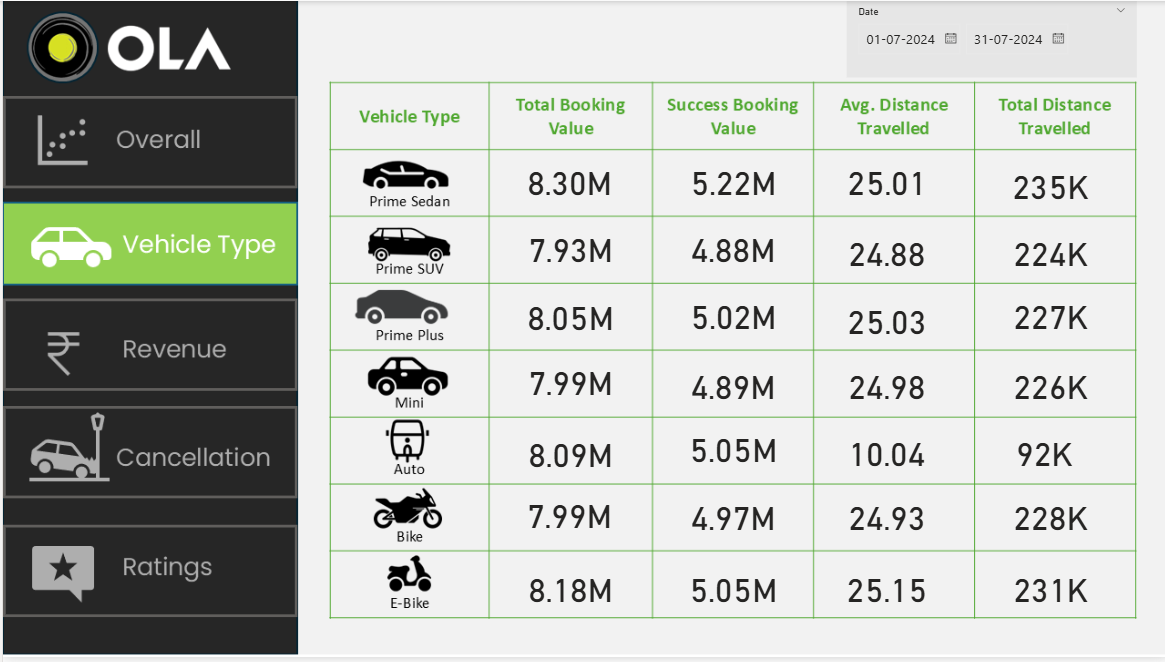

Layout of this report page (visuals, bound fields, positions):
{"tool":"powerbi","page":{"name":"Vehicle Type","canvas":[1280,720],"ordinal":1},"visuals":[{"type":"actionButton","box":[0,326.9,323.3,101.3],"z":0},{"type":"actionButton","box":[0,445.2,323.3,101.3],"z":1000},{"type":"actionButton","box":[0,575.5,323.3,101.3],"z":2000},{"type":"actionButton","box":[0,103.8,323.3,101.3],"z":3000},{"type":"card","fields":{"Values":["Sum(Bookings_Cleaned.Booking_Value)"]},"box":[537.9,164.7,168.8,64.5],"z":4000},{"type":"card","fields":{"Values":["Sum(Bookings_Cleaned.Booking_Value)"]},"box":[544.1,238.4,157.1,64.5],"z":5000},{"type":"card","fields":{"Values":["Sum(Bookings_Cleaned.Booking_Value)"]},"box":[544.1,312.7,157.1,64.5],"z":6000},{"type":"card","fields":{"Values":["Sum(Bookings_Cleaned.Booking_Value)"]},"box":[544.1,388.4,157.1,56.1],"z":7000},{"type":"card","fields":{"Values":["Sum(Bookings_Cleaned.Booking_Value)"]},"box":[544.1,464.2,157.1,64.5],"z":8000},{"type":"card","fields":{"Values":["Sum(Bookings_Cleaned.Booking_Value)"]},"box":[538.5,528.7,168.3,68.7],"z":9000},{"type":"card","fields":{"Values":["Sum(Bookings_Cleaned.Booking_Value)"]},"box":[544.1,611.4,157.1,64.5],"z":10000},{"type":"card","fields":{"Values":["Sum(Bookings_Cleaned.Booking_Value)"]},"box":[718,164.1,168.3,64.5],"z":11000},{"type":"card","fields":{"Values":["Sum(Bookings_Cleaned.Booking_Value)"]},"box":[718,532.9,168.3,64.5],"z":12000},{"type":"card","fields":{"Values":["Sum(Bookings_Cleaned.Booking_Value)"]},"box":[718,611.4,168.3,64.5],"z":13000},{"type":"card","fields":{"Values":["Sum(Bookings_Cleaned.Booking_Value)"]},"box":[718,238.4,168.3,64.5],"z":14000},{"type":"card","fields":{"Values":["Sum(Bookings_Cleaned.Booking_Value)"]},"box":[718,307.1,168.3,74.3],"z":15000},{"type":"card","fields":{"Values":["Sum(Bookings_Cleaned.Booking_Value)"]},"box":[718,388.4,168.3,64.5],"z":16000},{"type":"card","fields":{"Values":["Sum(Bookings_Cleaned.Booking_Value)"]},"box":[718,452.9,168.3,75.7],"z":17000},{"type":"card","fields":{"Values":["Avg(Bookings_Cleaned.Ride_Distance)"]},"box":[886.2,164.1,168.3,64.5],"z":18000},{"type":"card","fields":{"Values":["Avg(Bookings_Cleaned.Ride_Distance)"]},"box":[886.2,242.6,168.3,64.5],"z":19000},{"type":"card","fields":{"Values":["Avg(Bookings_Cleaned.Ride_Distance)"]},"box":[886.2,312.7,168.3,74.3],"z":20000},{"type":"card","fields":{"Values":["Avg(Bookings_Cleaned.Ride_Distance)"]},"box":[886.2,388.4,168.3,64.5],"z":21000},{"type":"card","fields":{"Values":["Avg(Bookings_Cleaned.Ride_Distance)"]},"box":[886.2,457.1,168.3,75.7],"z":22000},{"type":"card","fields":{"Values":["Avg(Bookings_Cleaned.Ride_Distance)"]},"box":[886.2,532.9,168.3,64.5],"z":23000},{"type":"card","fields":{"Values":["Avg(Bookings_Cleaned.Ride_Distance)"]},"box":[886.2,611.4,168.3,64.5],"z":24000},{"type":"card","fields":{"Values":["Sum(Bookings_Cleaned.Ride_Distance)"]},"box":[1065.7,164.1,168.3,72.9],"z":25000},{"type":"card","fields":{"Values":["Sum(Bookings_Cleaned.Ride_Distance)"]},"box":[1065.7,242.6,168.3,64.5],"z":26000},{"type":"card","fields":{"Values":["Sum(Bookings_Cleaned.Ride_Distance)"]},"box":[1065.7,307.1,168.3,74.3],"z":27000},{"type":"card","fields":{"Values":["Sum(Bookings_Cleaned.Ride_Distance)"]},"box":[1065.7,388.4,168.3,64.5],"z":28000},{"type":"card","fields":{"Values":["Sum(Bookings_Cleaned.Ride_Distance)"]},"box":[1054.5,457.1,179.5,75.7],"z":29000},{"type":"card","fields":{"Values":["Sum(Bookings_Cleaned.Ride_Distance)"]},"box":[1065.7,532.9,168.3,64.5],"z":30000},{"type":"card","fields":{"Values":["Sum(Bookings_Cleaned.Ride_Distance)"]},"box":[1065.7,611.4,168.3,64.5],"z":31000},{"type":"slicer","title":"Date","fields":{"Values":["Bookings_Cleaned.Date"]},"box":[926.9,0,318.3,84.1],"z":32000}]}

Visuals, with their boxes on the page's 1280x720 design canvas (x1, y1, x2, y2). These are canvas units, not pixel positions in the 1165x662 screenshot, which may show the page scaled, cropped or inside an application window:
actionButton: 0 327 323 428
actionButton: 0 445 323 546
actionButton: 0 576 323 677
actionButton: 0 104 323 205
card - Sum(Bookings_Cleaned.Booking_Value): 538 165 707 229
card - Sum(Bookings_Cleaned.Booking_Value): 544 238 701 303
card - Sum(Bookings_Cleaned.Booking_Value): 544 313 701 377
card - Sum(Bookings_Cleaned.Booking_Value): 544 388 701 444
card - Sum(Bookings_Cleaned.Booking_Value): 544 464 701 529
card - Sum(Bookings_Cleaned.Booking_Value): 538 529 707 597
card - Sum(Bookings_Cleaned.Booking_Value): 544 611 701 676
card - Sum(Bookings_Cleaned.Booking_Value): 718 164 886 229
card - Sum(Bookings_Cleaned.Booking_Value): 718 533 886 597
card - Sum(Bookings_Cleaned.Booking_Value): 718 611 886 676
card - Sum(Bookings_Cleaned.Booking_Value): 718 238 886 303
card - Sum(Bookings_Cleaned.Booking_Value): 718 307 886 381
card - Sum(Bookings_Cleaned.Booking_Value): 718 388 886 453
card - Sum(Bookings_Cleaned.Booking_Value): 718 453 886 529
card - Avg(Bookings_Cleaned.Ride_Distance): 886 164 1054 229
card - Avg(Bookings_Cleaned.Ride_Distance): 886 243 1054 307
card - Avg(Bookings_Cleaned.Ride_Distance): 886 313 1054 387
card - Avg(Bookings_Cleaned.Ride_Distance): 886 388 1054 453
card - Avg(Bookings_Cleaned.Ride_Distance): 886 457 1054 533
card - Avg(Bookings_Cleaned.Ride_Distance): 886 533 1054 597
card - Avg(Bookings_Cleaned.Ride_Distance): 886 611 1054 676
card - Sum(Bookings_Cleaned.Ride_Distance): 1066 164 1234 237
card - Sum(Bookings_Cleaned.Ride_Distance): 1066 243 1234 307
card - Sum(Bookings_Cleaned.Ride_Distance): 1066 307 1234 381
card - Sum(Bookings_Cleaned.Ride_Distance): 1066 388 1234 453
card - Sum(Bookings_Cleaned.Ride_Distance): 1054 457 1234 533
card - Sum(Bookings_Cleaned.Ride_Distance): 1066 533 1234 597
card - Sum(Bookings_Cleaned.Ride_Distance): 1066 611 1234 676
"Date" slicer: 927 0 1245 84
